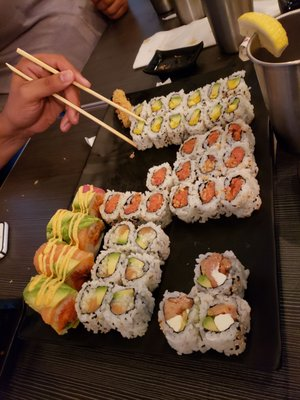pasta: (237, 11, 289, 59)
